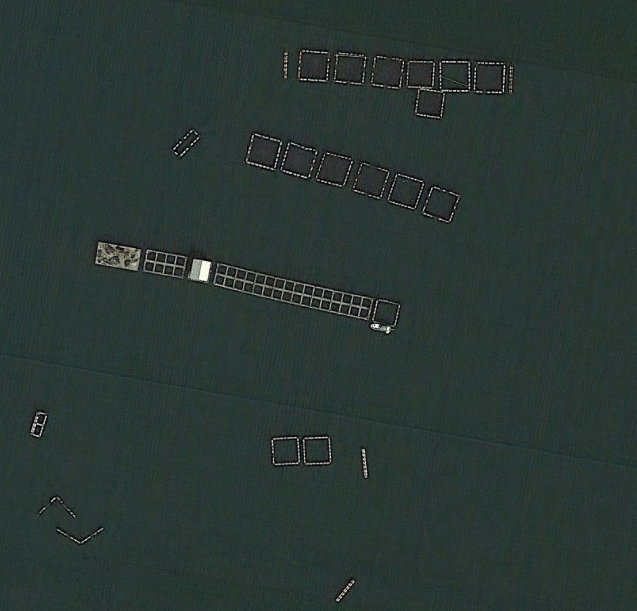ship: (365, 320, 398, 346)
square: (385, 163, 426, 218), (421, 179, 459, 232), (351, 155, 392, 204), (279, 134, 319, 181), (244, 129, 284, 176), (315, 144, 354, 192), (368, 49, 405, 97), (293, 42, 332, 87), (471, 55, 508, 99), (300, 430, 341, 469), (434, 55, 472, 96), (330, 50, 368, 90), (267, 432, 306, 470), (413, 81, 447, 124), (369, 295, 404, 335), (401, 56, 434, 92)
